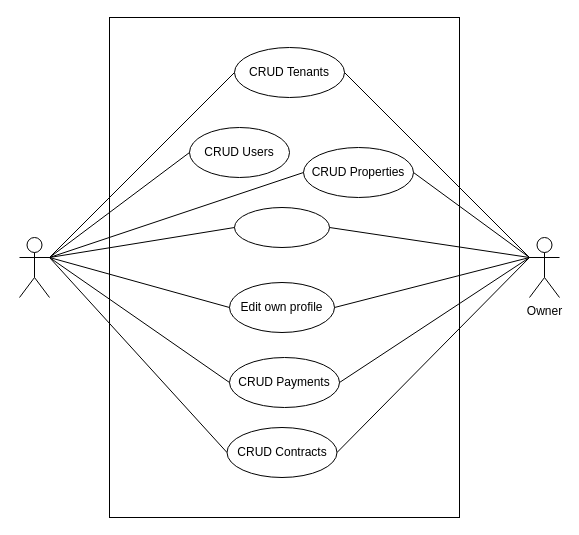
Image size: 579x535. Some labels were removed from this diagram. The shapes that lost their labels are listed below. From the top down, each one's centre as x and y in pixels, then its label:
At [282,227]: "Login/Logout".
At [34,267]: "Admin".
